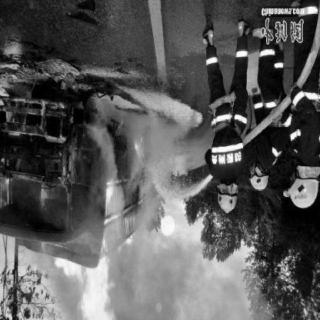Fire: (53, 246, 119, 320)
